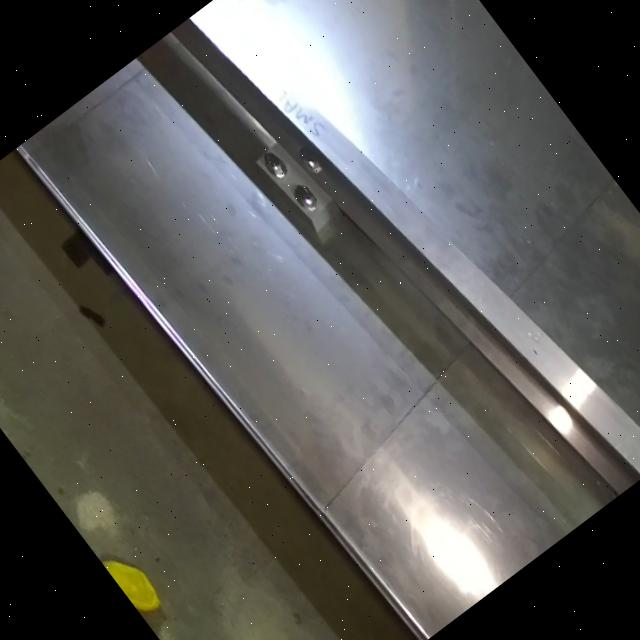blocks: (235, 85, 404, 262)
